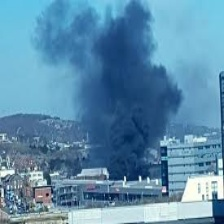smoke: (60, 16, 161, 174)
